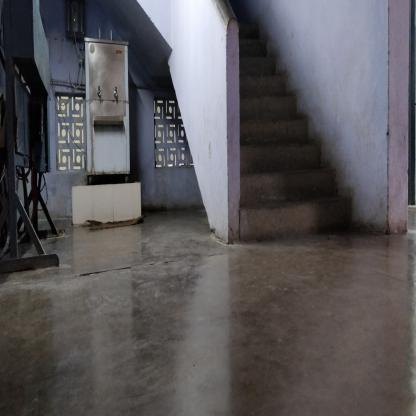stairs: (242, 117, 310, 251)
